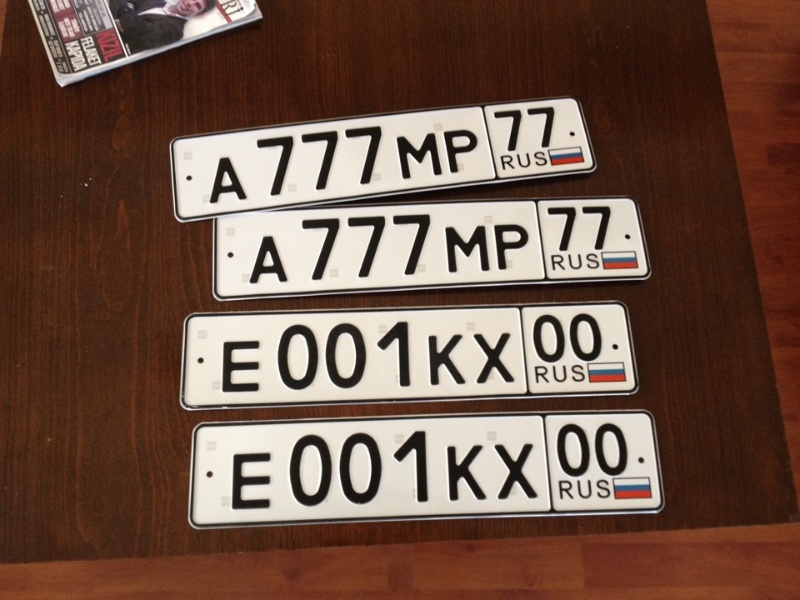plate: (188, 409, 664, 528), (169, 97, 597, 226), (181, 299, 638, 411), (212, 196, 652, 299)
